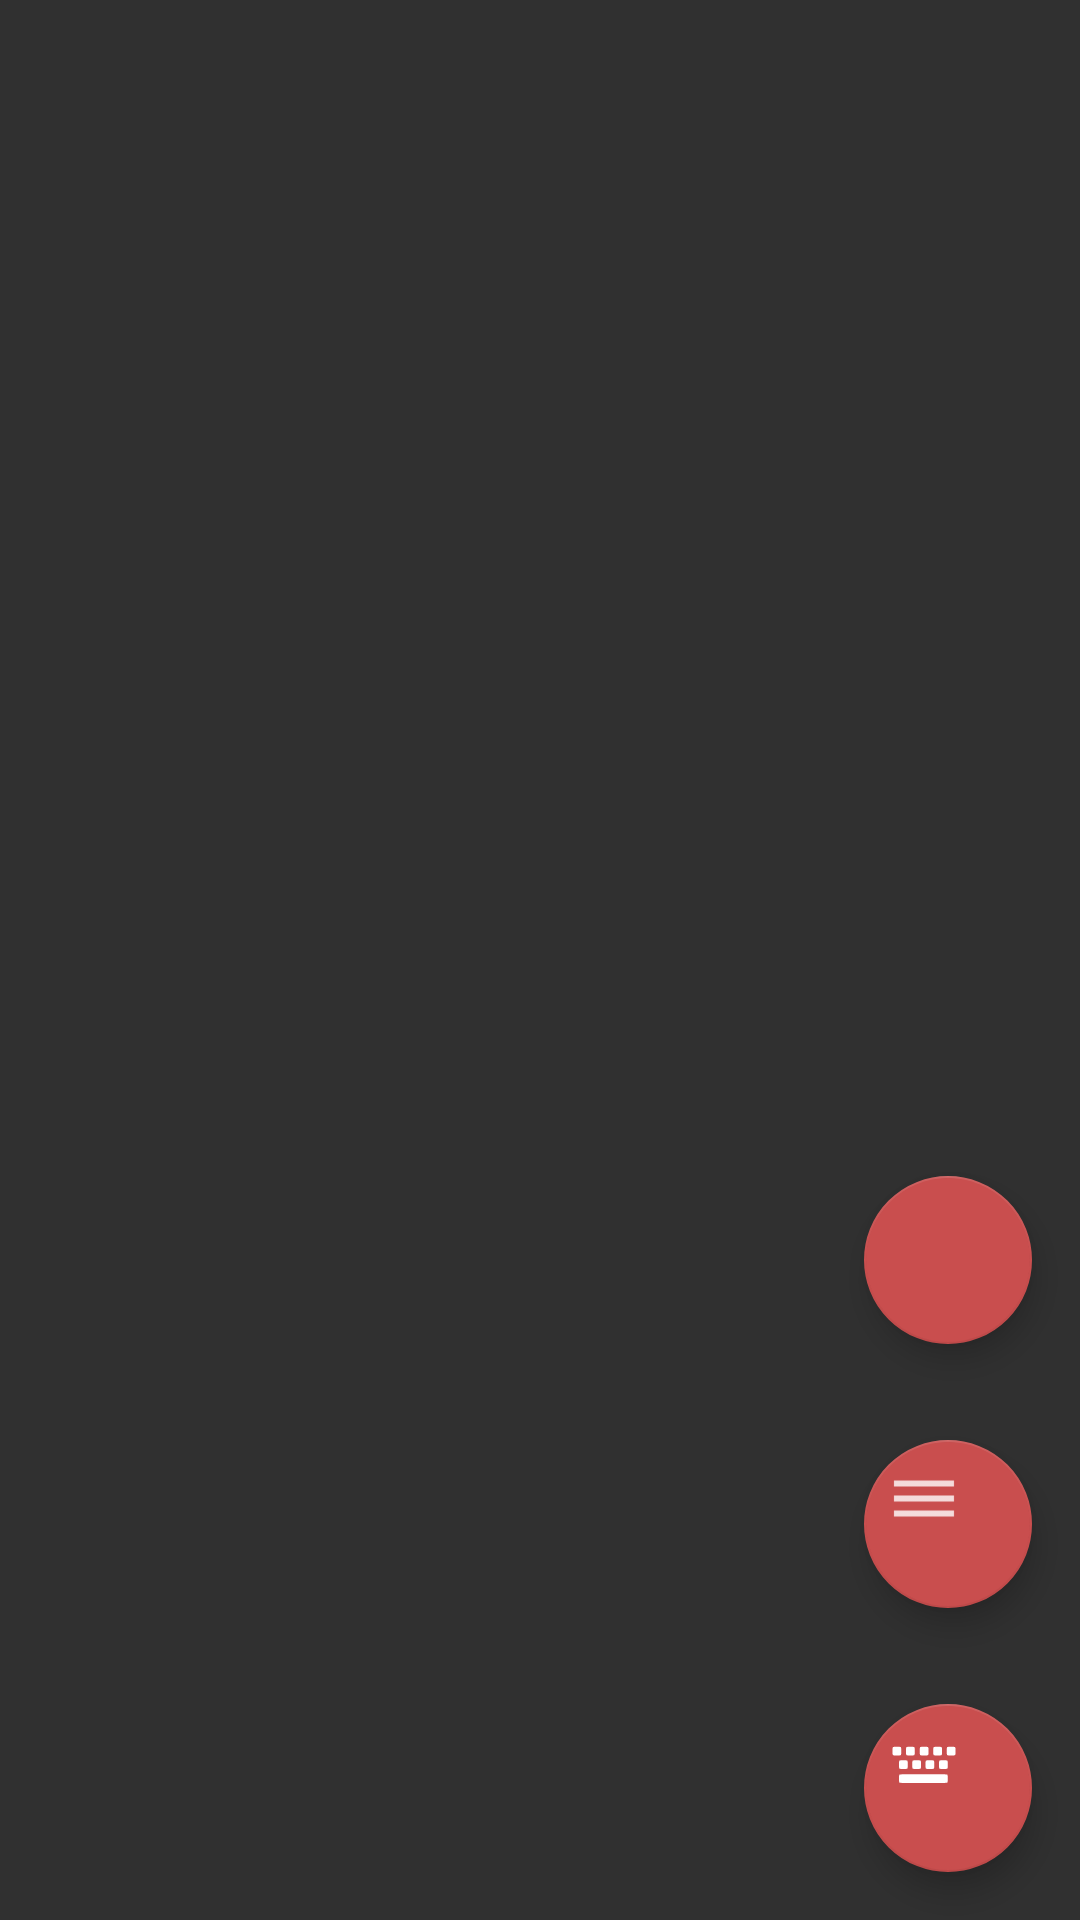

Icon click points for this 1080×1920 phone screenshot, format (x,y):
keyboardbutton: (948,1788)
menu: (948,1524)
